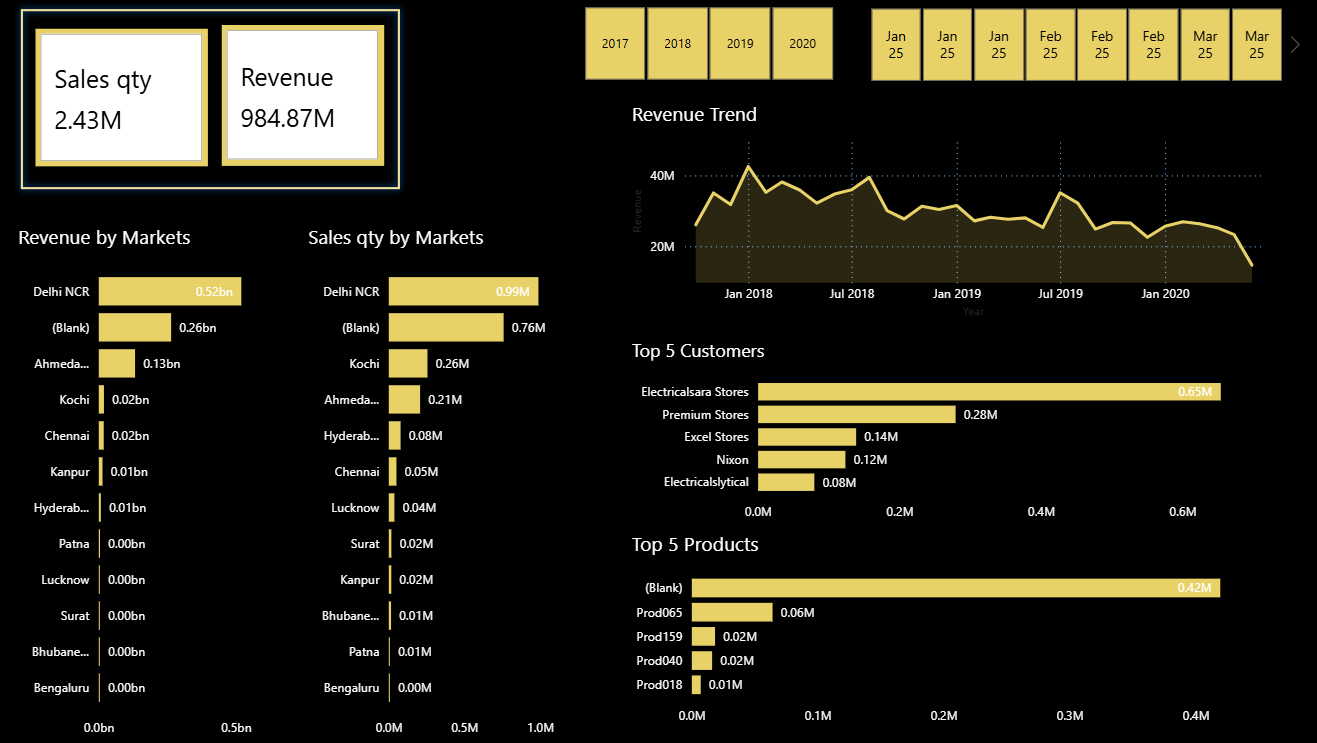

The page's visual inventory and layout, read from the dashboard file:
{"tool":"powerbi","page":{"name":"Insights","canvas":[1280,720],"ordinal":0},"visuals":[{"type":"shape","box":[19.2,1.4,381.5,189.4],"z":0},{"type":"cardVisual","fields":{"Data":["Base_measures.Revenue"]},"box":[220.9,24.7,156.4,135.8],"z":1000},{"type":"cardVisual","fields":{"Data":["Base_measures.Sales qty"]},"box":[41.2,27.4,166,133.1],"z":2000},{"type":"barChart","title":"Revenue by Markets","fields":{"Y":["Base_measures.Revenue"],"Category":["sales markets.markets_name"]},"box":[19.2,215.4,279.9,505],"z":3000},{"type":"barChart","title":"Sales qty by Markets","fields":{"Y":["Base_measures.Sales qty"],"Category":["sales markets.markets_name"]},"box":[299.1,215.4,279.9,505],"z":4000},{"type":"slicer","fields":{"Values":["sales date.year"]},"box":[544.8,0,289.5,83.7],"z":5000},{"type":"slicer","fields":{"Values":["sales date.date_yy_mmm"]},"box":[822,1.4,446,83.7],"z":6000},{"type":"barChart","title":"Top 5 Customers","fields":{"Y":["Base_measures.Sales qty"],"Category":["sales customers.custmer_name"]},"box":[612,325.2,632.6,186.6],"z":7000},{"type":"barChart","title":"Top 5 Products","fields":{"Y":["Base_measures.Sales qty"],"Category":["sales products.product_code"]},"box":[612,511.8,632.6,197.6],"z":8000},{"type":"lineChart","title":"Revenue Trend","fields":{"Y":["Base_measures.Revenue"],"Category":["sales date.cy_date.Variation.Date Hierarchy.Year","sales date.cy_date.Variation.Date Hierarchy.Quarter","sales date.cy_date.Variation.Date Hierarchy.Month","sales date.cy_date.Variation.Date Hierarchy.Day"]},"box":[612,96.1,632.6,215.4],"z":9000}]}

Visuals, with their boxes in screenshot pixels (x1, y1, x2, y2), scaled from the page's 1280x720 canvas onto the 1317x743 screenshot:
shape: [left=20, top=1, right=412, bottom=197]
cardVisual - Base_measures.Revenue: [left=227, top=25, right=388, bottom=166]
cardVisual - Base_measures.Sales qty: [left=42, top=28, right=213, bottom=166]
"Revenue by Markets" barChart: [left=20, top=222, right=308, bottom=742]
"Sales qty by Markets" barChart: [left=308, top=222, right=596, bottom=742]
slicer - sales date.year: [left=561, top=0, right=858, bottom=86]
slicer - sales date.date_yy_mmm: [left=846, top=1, right=1305, bottom=88]
"Top 5 Customers" barChart: [left=630, top=336, right=1281, bottom=528]
"Top 5 Products" barChart: [left=630, top=528, right=1281, bottom=732]
"Revenue Trend" lineChart: [left=630, top=99, right=1281, bottom=321]
